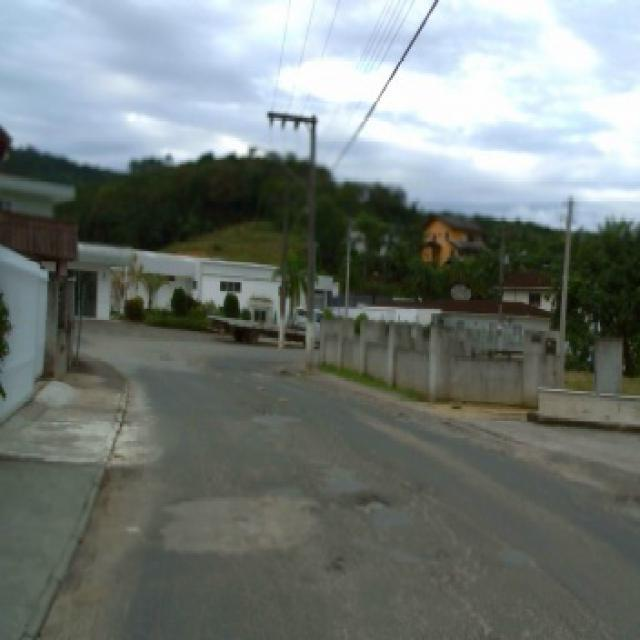Poth-hole: (160, 480, 326, 558), (422, 494, 500, 636), (491, 529, 544, 571), (251, 404, 311, 432), (354, 491, 394, 513), (324, 548, 352, 574), (613, 489, 640, 509), (274, 366, 296, 376), (160, 349, 178, 360), (396, 409, 414, 418), (278, 393, 291, 400), (256, 382, 268, 389)
